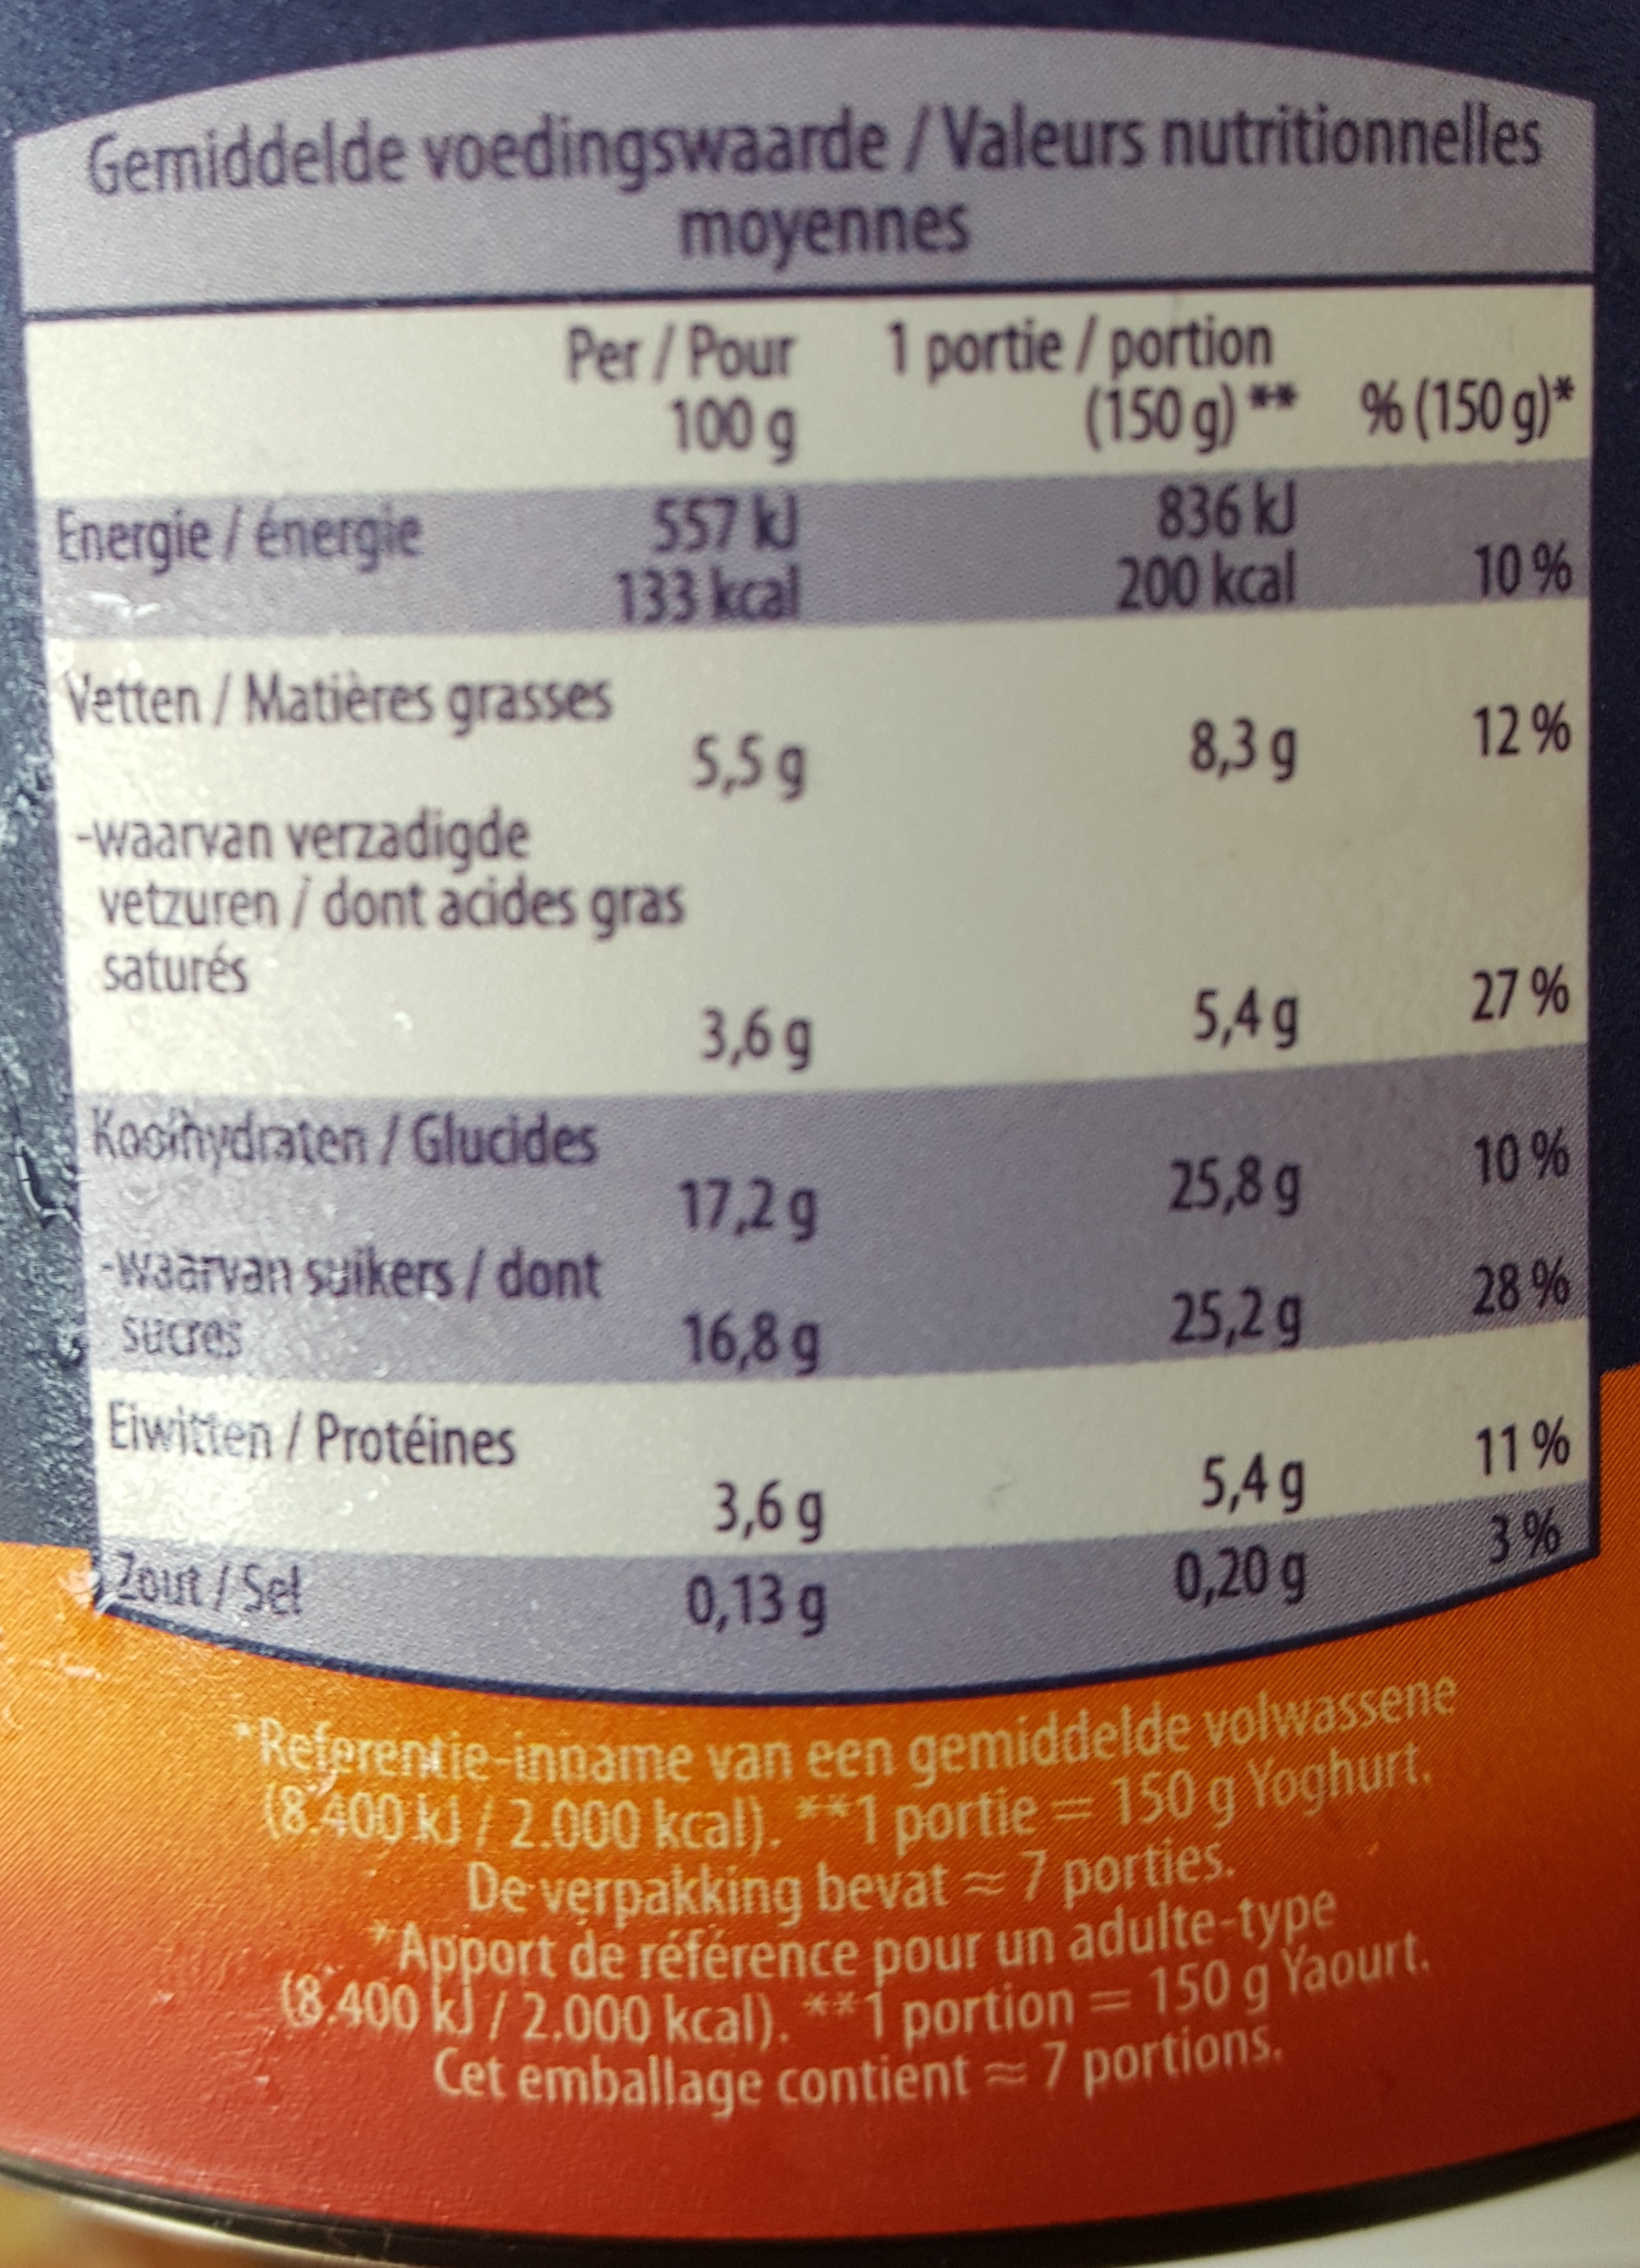column: (56, 310, 826, 1708), (868, 291, 1309, 1713), (1346, 282, 1577, 1713)
table: (11, 23, 1605, 1712)
